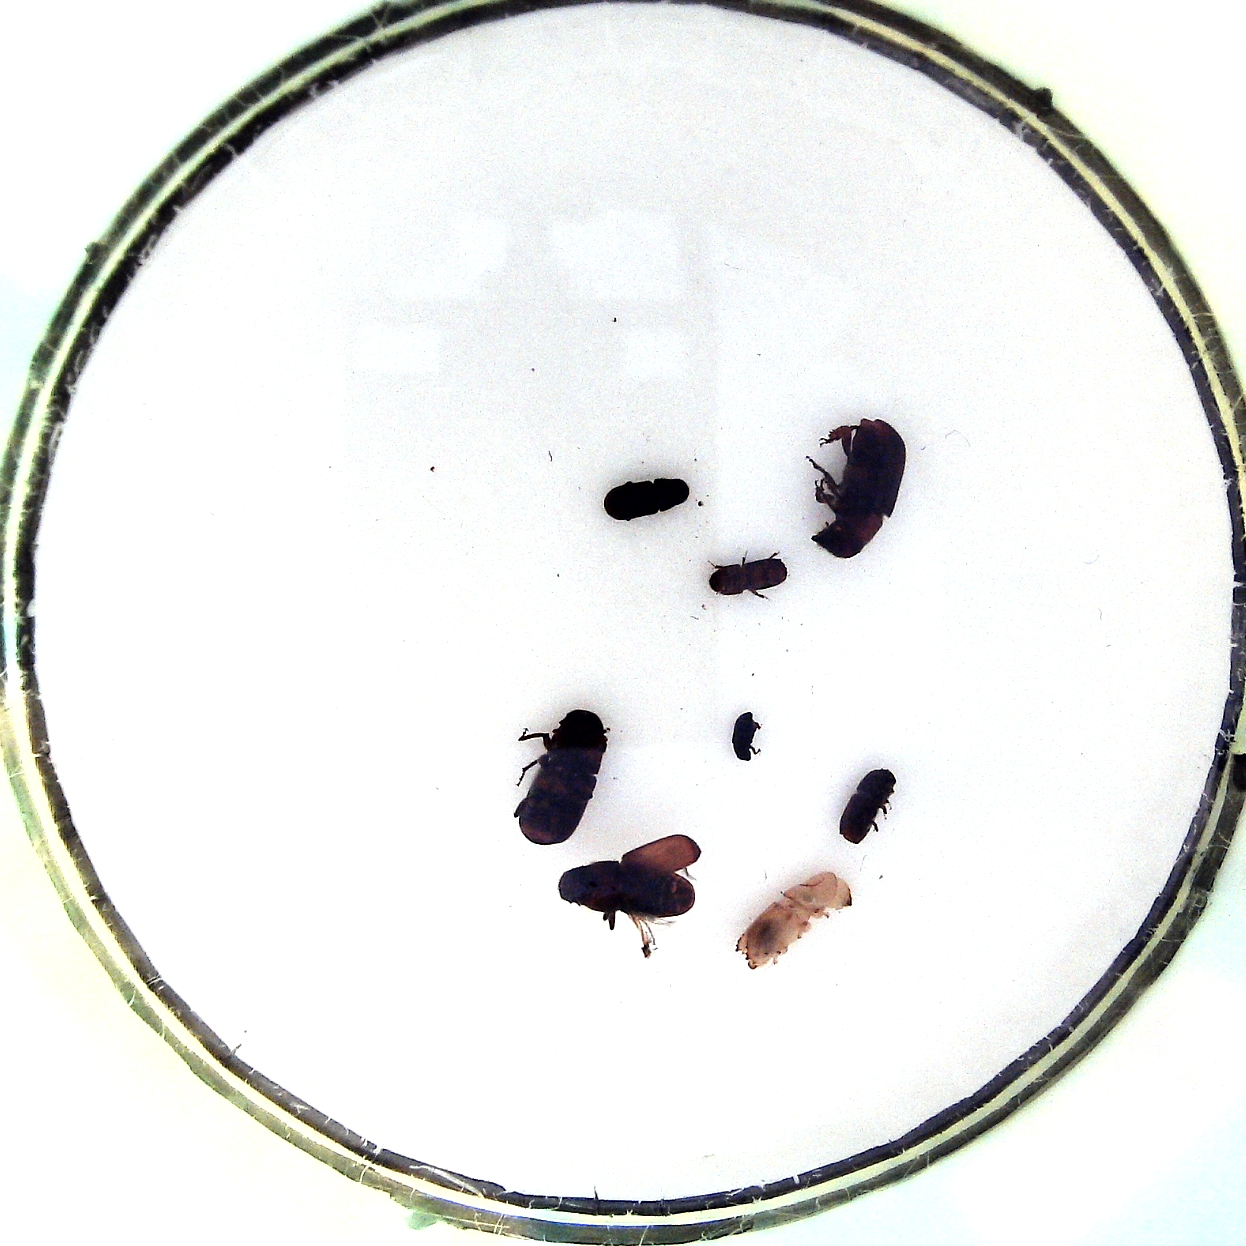Boerner: (729, 868, 853, 974)
Leconte: (559, 831, 699, 949), (806, 416, 908, 559), (513, 705, 608, 848)
Linnaeus: (836, 761, 900, 848)
acuminatus: (703, 549, 792, 600)
armandi: (600, 472, 691, 521)
coleoptera: (728, 707, 762, 768)
